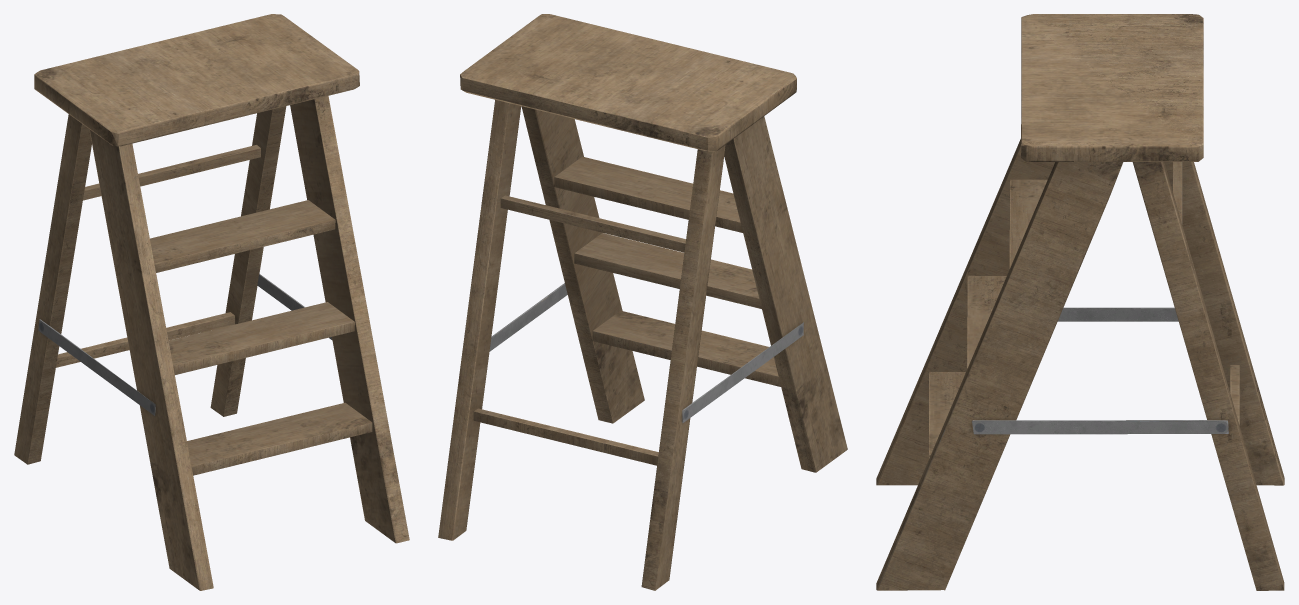
File: SM_Ladder_Ladder.glb
The picture shows the model from 3 angles, left to right: view 1: azimuth 30°, elevation 25°; view 2: azimuth 150°, elevation 25°; view 3: azimuth 270°, elevation 25°; orthographic projection. The views are drawn at different scales.
Parts seen in each view (by area): view 1: SM_Ladder_Ladder; view 2: SM_Ladder_Ladder; view 3: SM_Ladder_Ladder.
Part boxes in pixels (x1,y1,x2,y2): SM_Ladder_Ladder: [14, 14, 409, 590]; SM_Ladder_Ladder: [438, 14, 847, 590]; SM_Ladder_Ladder: [876, 14, 1284, 590].
Size of the model in its own units: 0.4605 by 0.7354 by 0.5986.
Materials: 1 (1 with a texture image).
